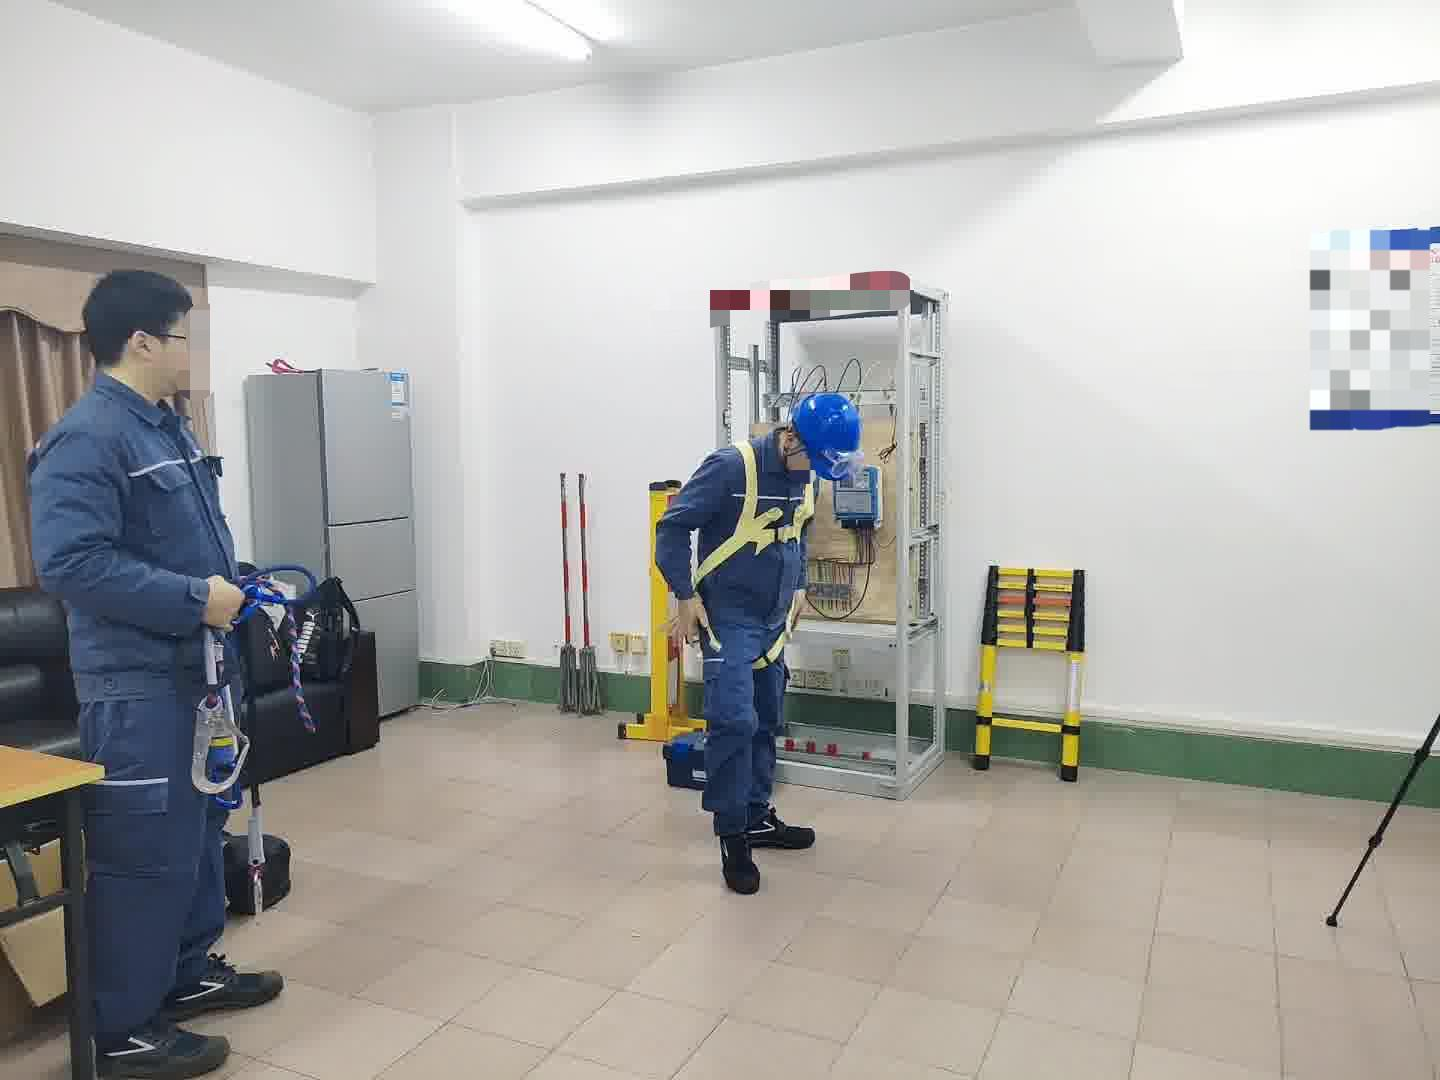halt: (793, 393, 866, 486)
inear: (780, 431, 814, 474)
unhalt: (82, 273, 212, 400)
